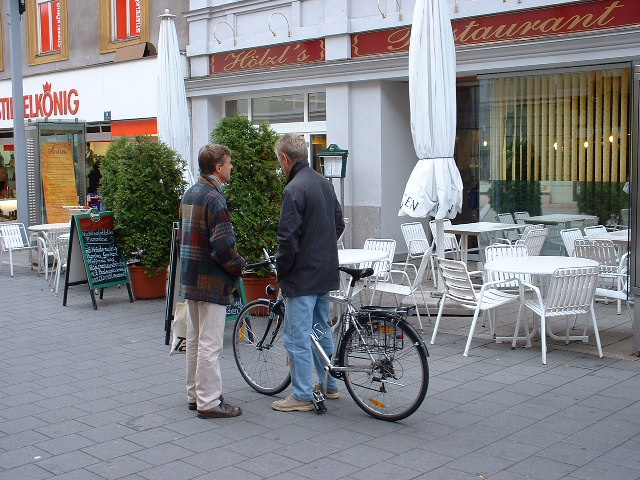person: (264, 131, 344, 410), (172, 142, 248, 417)
